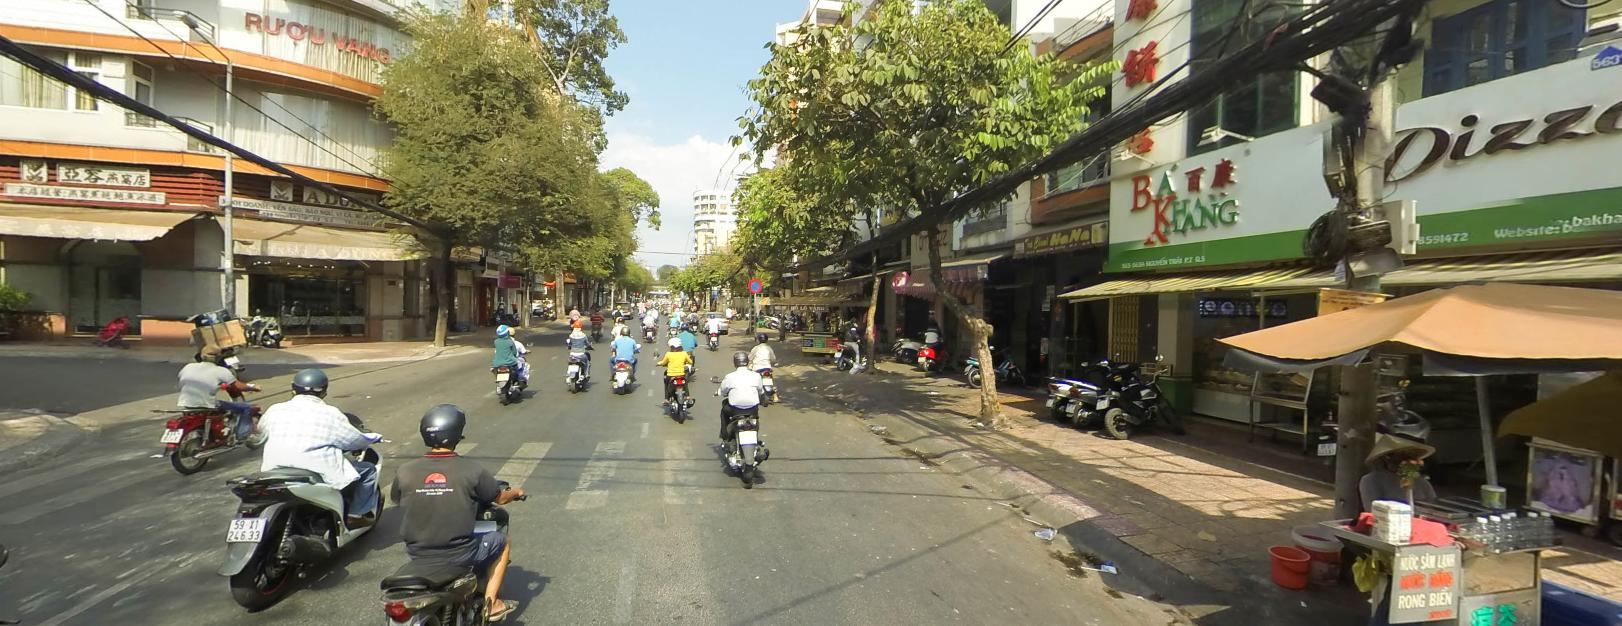Cam dung va do: (747, 276, 762, 292)
